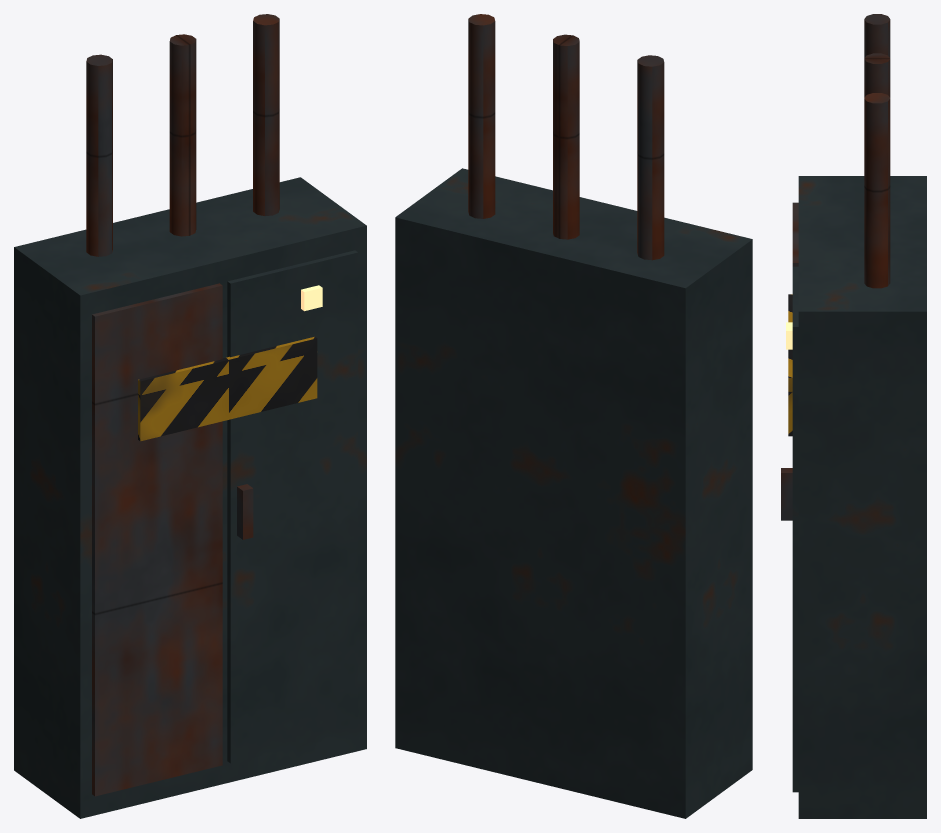
File: Prop_ElectricalCabinet.fbx
3 renders of one model, left to right at view 1: azimuth 30°, elevation 25°; view 2: azimuth 150°, elevation 25°; view 3: azimuth 270°, elevation 25°, orthographic. The views are drawn at different scales.
Visible parts, largest first — view 1: Prop_ElectricalCabinet; view 2: Prop_ElectricalCabinet; view 3: Prop_ElectricalCabinet.
Boxes of the visible parts, box(x1,y1,x2,y2) form: Prop_ElectricalCabinet: box(14, 14, 366, 818); Prop_ElectricalCabinet: box(395, 14, 752, 818); Prop_ElectricalCabinet: box(781, 14, 926, 818).
Size of the model in its own units: 1.1 by 2.62 by 0.5.
